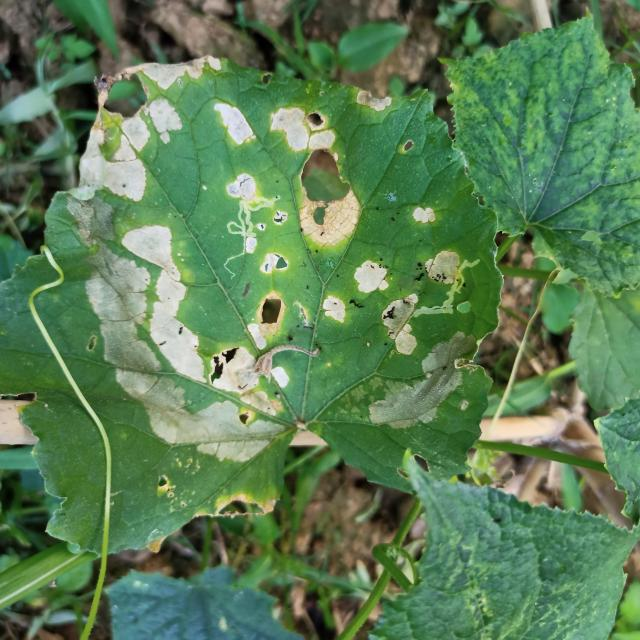disease_cucumber: (63, 55, 397, 239), (86, 223, 296, 466), (318, 194, 482, 433)
